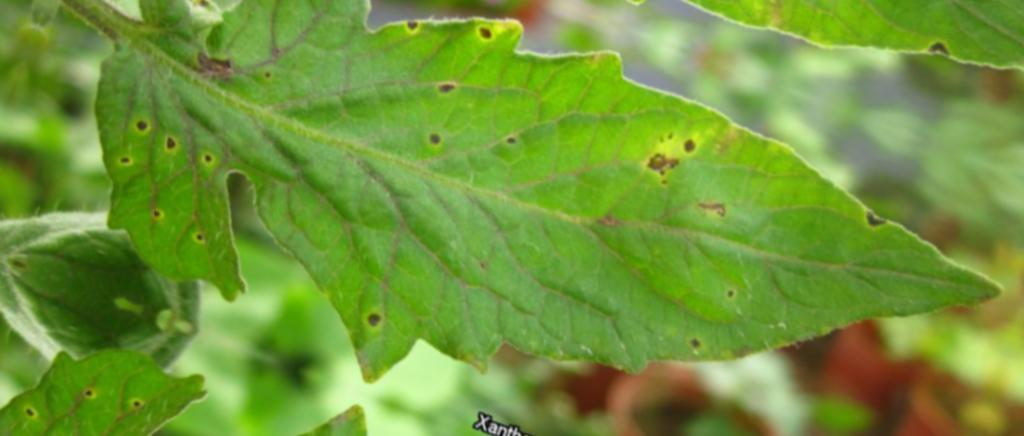Tomato leaf bacterial spot: (35, 0, 1024, 436)
